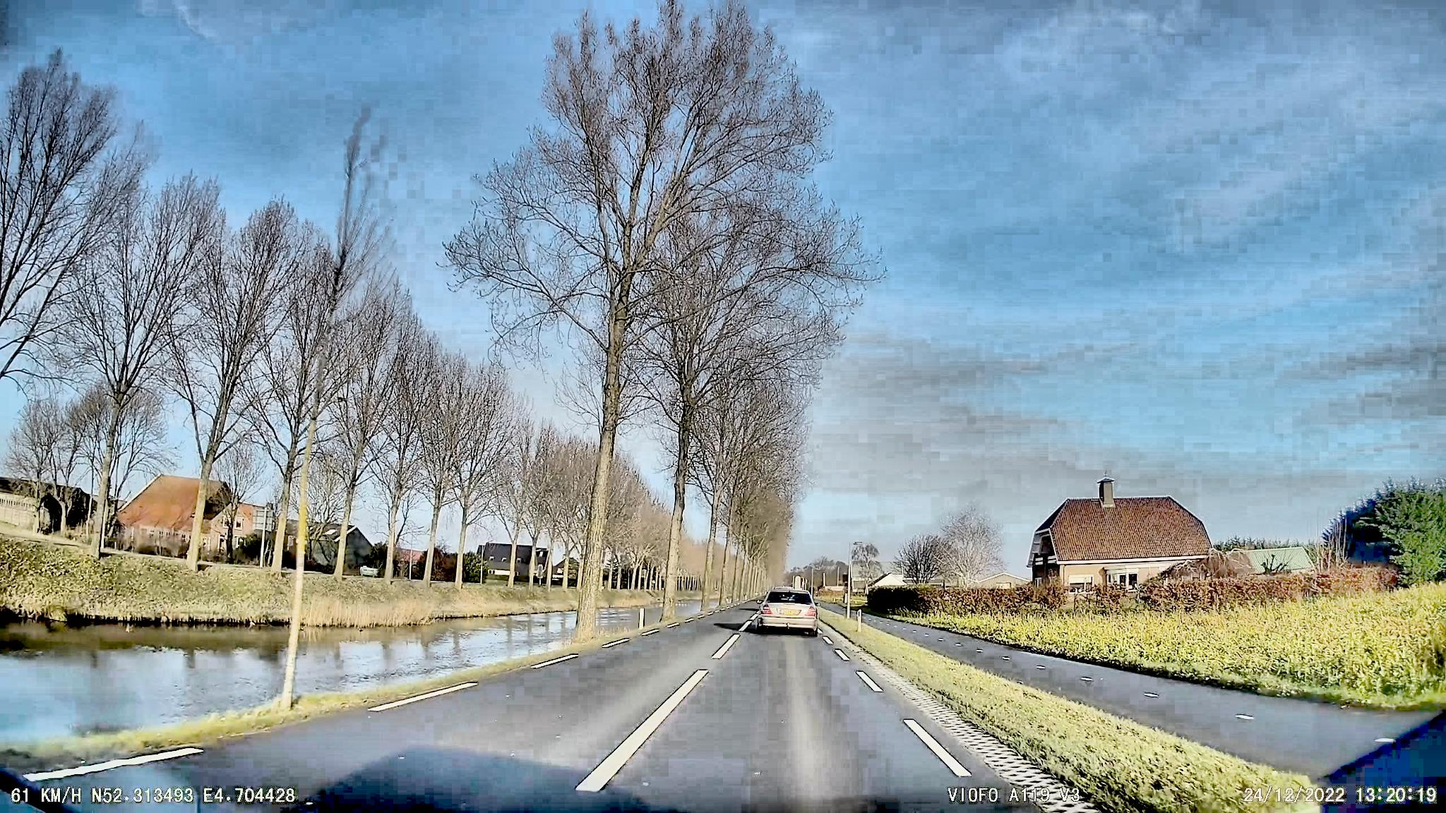Roads: (13, 606, 1101, 813)
